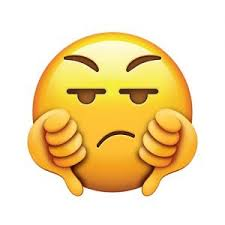thumbs_up: (10, 6, 222, 215)
